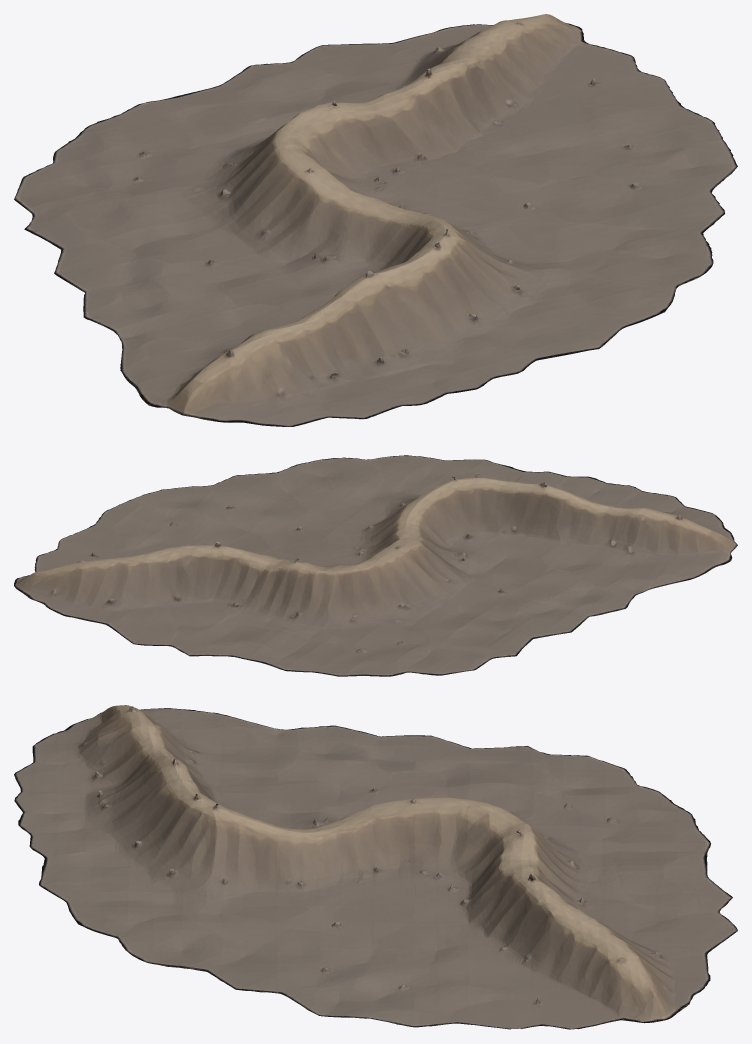
3 views of the same model, one above another, from view 1: azimuth 30°, elevation 25°; view 2: azimuth 150°, elevation 25°; view 3: azimuth 270°, elevation 25° (orthographic). The views are drawn at different scales.
Parts seen in each view (by area): view 1: world; view 2: world; view 3: world.
Part boxes in pixels (x1,y1,x2,y2): world: (14,14,737,426); world: (14,455,737,676); world: (14,705,737,1029).
Size of the model in its own units: 0.9992 by 0.0908 by 0.9488.
1 material, 1 textured.
